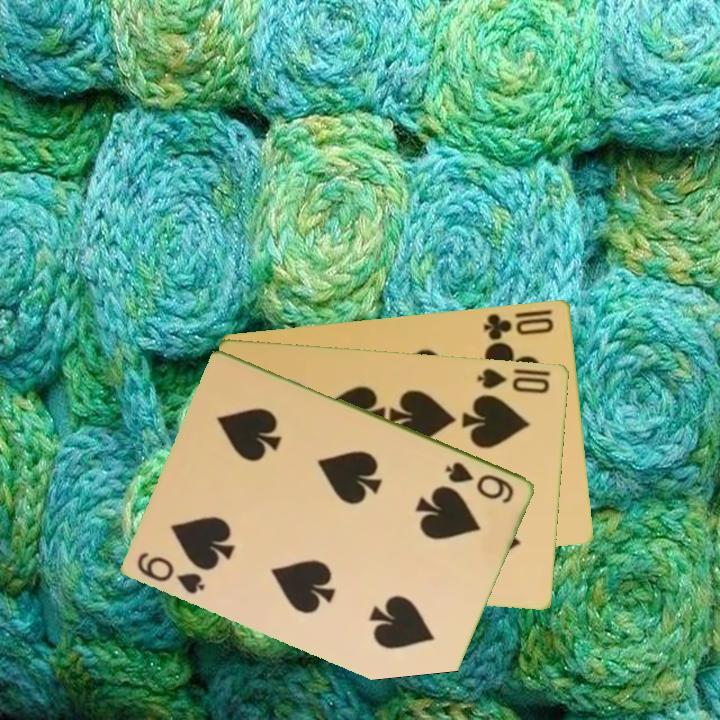10c: (480, 309, 557, 343)
10s: (474, 365, 553, 396)
6s: (442, 457, 518, 507), (134, 548, 209, 597)
